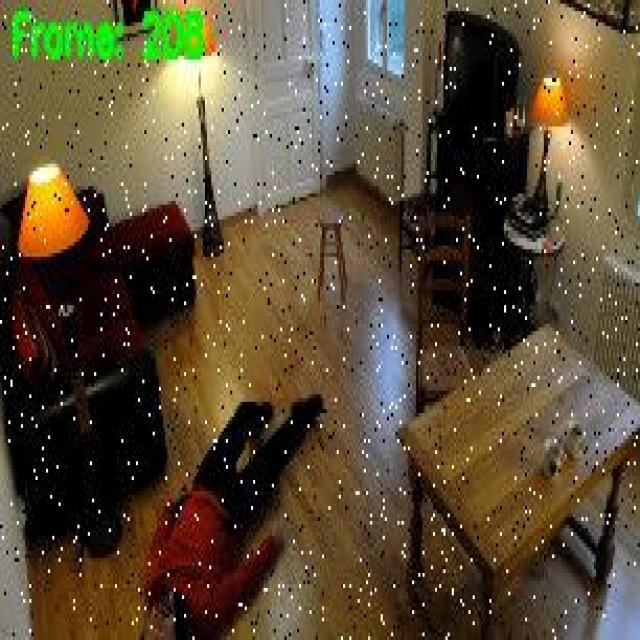fall: (128, 387, 328, 636)
